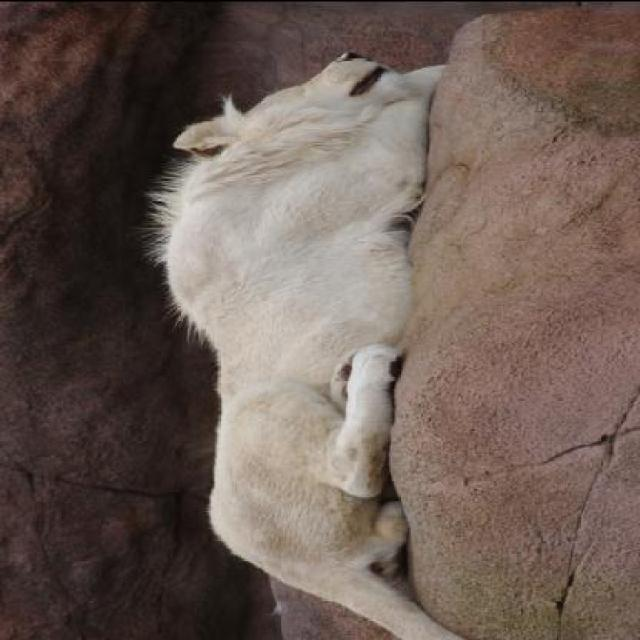Lion: (131, 24, 569, 638)
